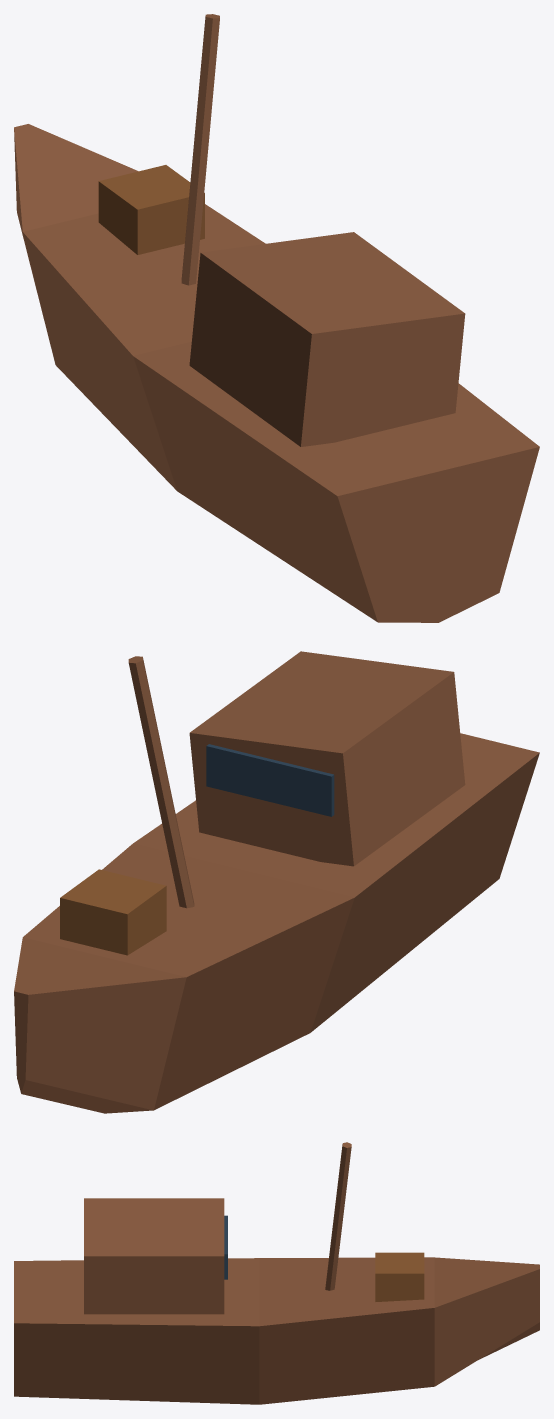
Rendered from prop_wreck.glb.
3 renders of one model, top to bottom at view 1: azimuth 30°, elevation 25°; view 2: azimuth 150°, elevation 25°; view 3: azimuth 270°, elevation 25°, orthographic. The views are drawn at different scales.
Parts seen in each view (by area): view 1: prop_wreck__mesh; view 2: prop_wreck__mesh; view 3: prop_wreck__mesh.
Boxes of the visible parts, <box> form: prop_wreck__mesh: <box>14,14,539,622</box>; prop_wreck__mesh: <box>14,651,539,1113</box>; prop_wreck__mesh: <box>14,1142,539,1404</box>.
Bounding box in the file's own units: 4.6 × 8.22 × 15.
